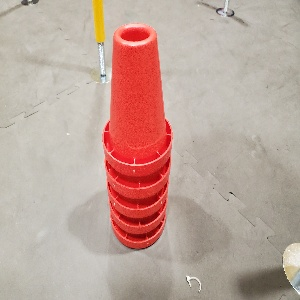Red_5: (101, 22, 171, 250)
